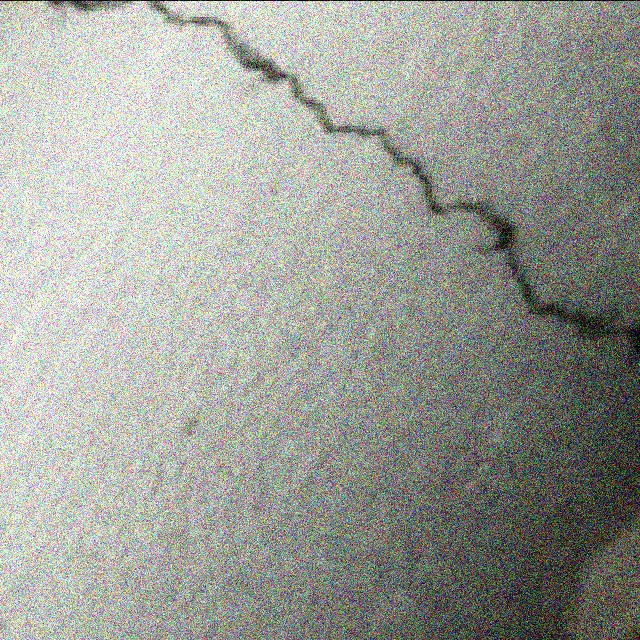SurfaceCrack: (94, 0, 640, 374)
